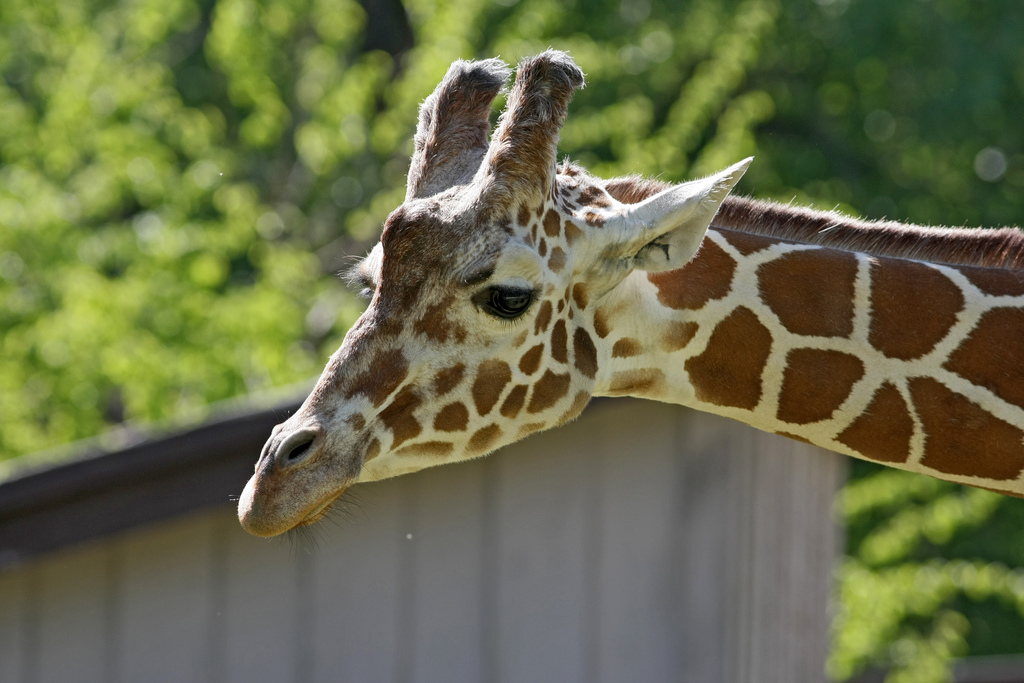giraffe: (203, 41, 983, 562)
